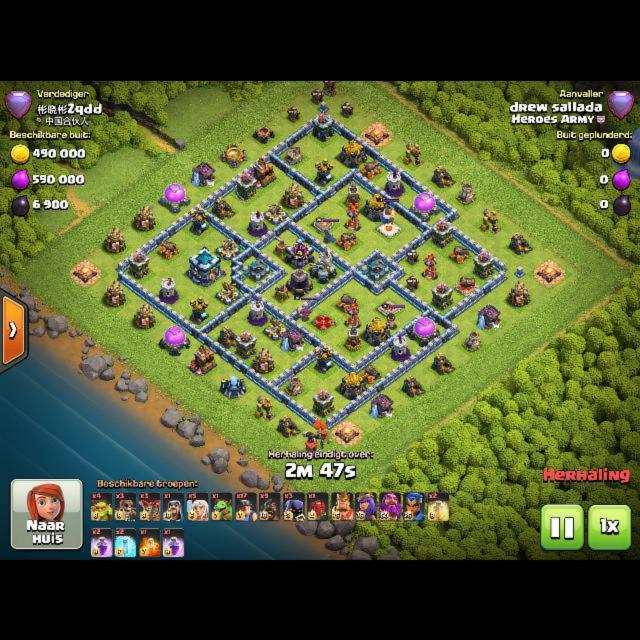AD: (189, 294, 209, 324), (314, 345, 334, 374), (314, 157, 334, 186), (189, 206, 209, 235)
AirSweeper: (271, 234, 289, 258), (272, 283, 291, 303)
BombTower: (345, 323, 361, 349), (346, 182, 361, 207)
Canon: (454, 275, 479, 295), (360, 158, 381, 178), (158, 238, 179, 258), (449, 245, 471, 264), (361, 363, 381, 383), (337, 231, 358, 250), (337, 293, 358, 312)
ClanCastle: (285, 236, 314, 268)
Eagle: (309, 249, 336, 284)
Inferno: (344, 203, 361, 230), (344, 300, 360, 327), (422, 253, 438, 279)
KingPad: (378, 299, 400, 315)
Mortar: (457, 183, 476, 204), (463, 330, 482, 350), (285, 375, 304, 395), (283, 145, 303, 163)
QueenPad: (311, 312, 335, 330)
RcPad: (314, 216, 333, 230)
Scattershot: (241, 258, 270, 282), (360, 258, 389, 282)
TH13: (188, 246, 221, 286)
WardenPad: (379, 219, 400, 235)
WizzTower: (248, 210, 267, 236), (385, 170, 403, 196), (159, 276, 177, 302), (248, 299, 266, 325), (391, 335, 409, 360)
Xbow: (262, 315, 288, 340), (215, 280, 241, 305), (215, 238, 241, 261), (263, 202, 288, 224)
